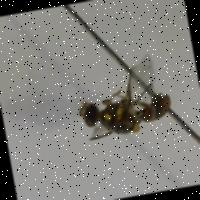Oriental-fruit-fly: (49, 49, 180, 166)
